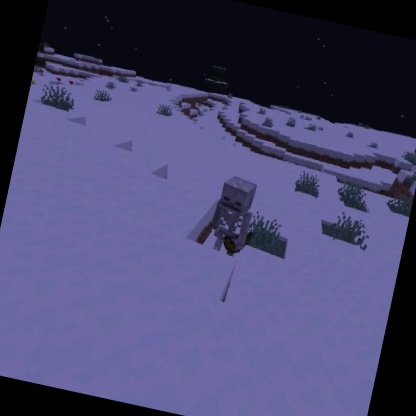skeleton: (204, 171, 268, 260)
